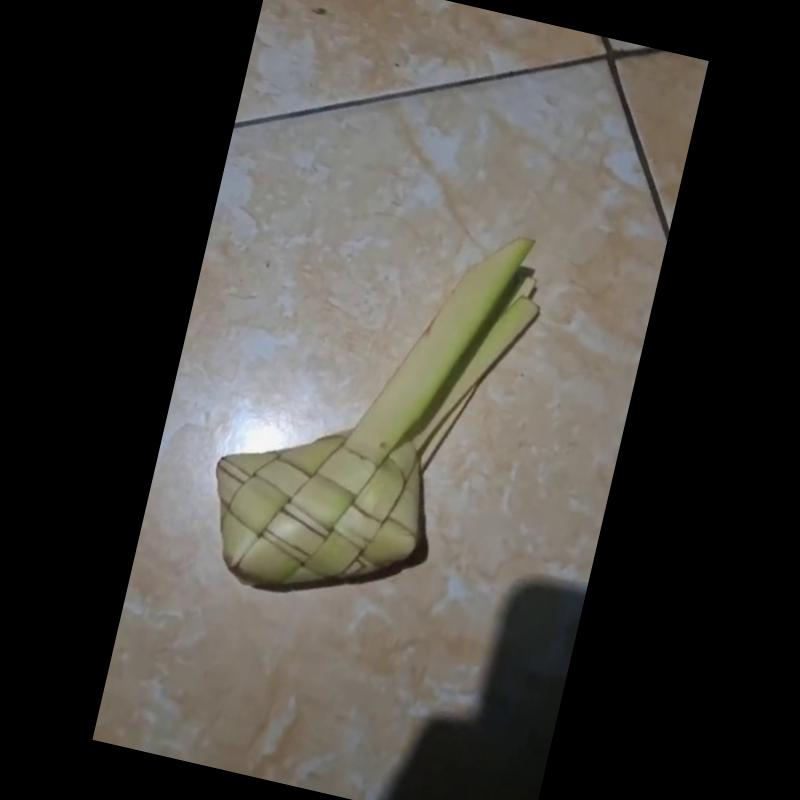Tipat Bantal: (220, 236, 539, 601)
